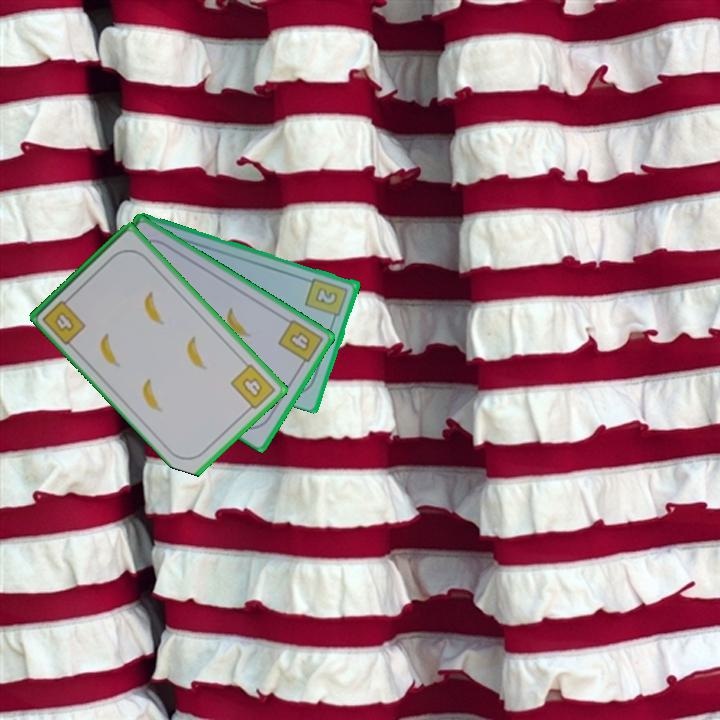2b: (302, 274, 351, 324)
4b: (275, 316, 326, 371), (227, 360, 278, 415), (39, 292, 89, 347)
